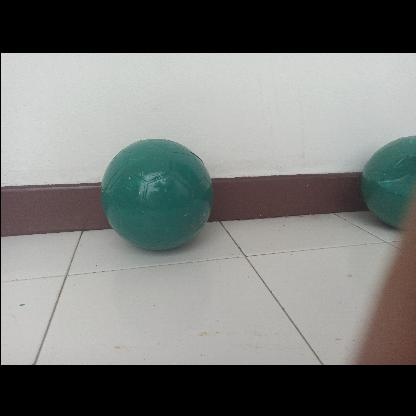green_ball: (99, 135, 213, 249)
